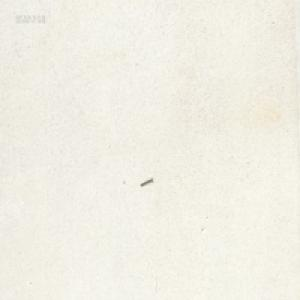Bolt: (139, 176, 152, 187)
